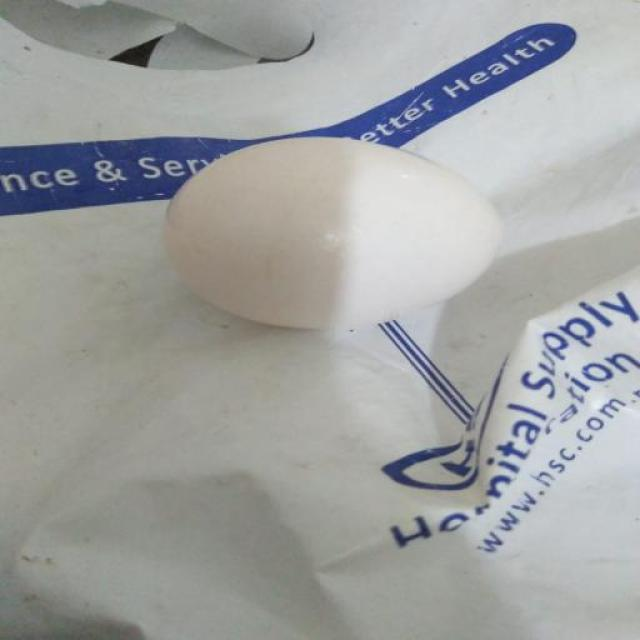telur: (160, 139, 502, 335)
